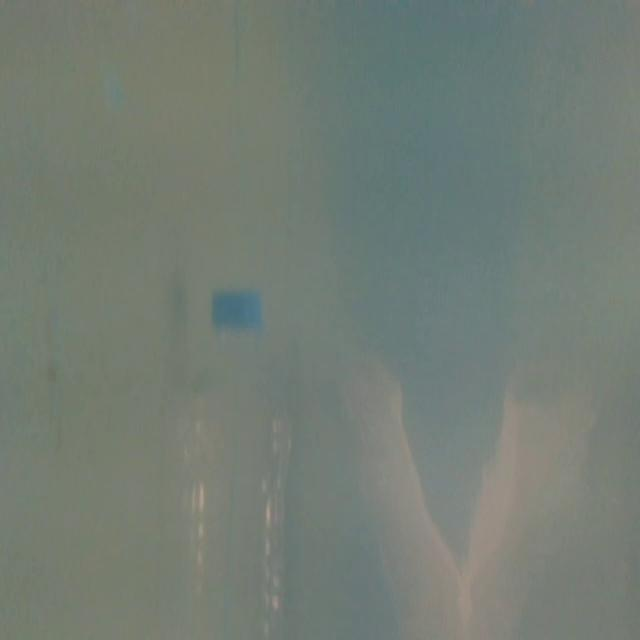plastic bottle: (180, 279, 300, 636)
